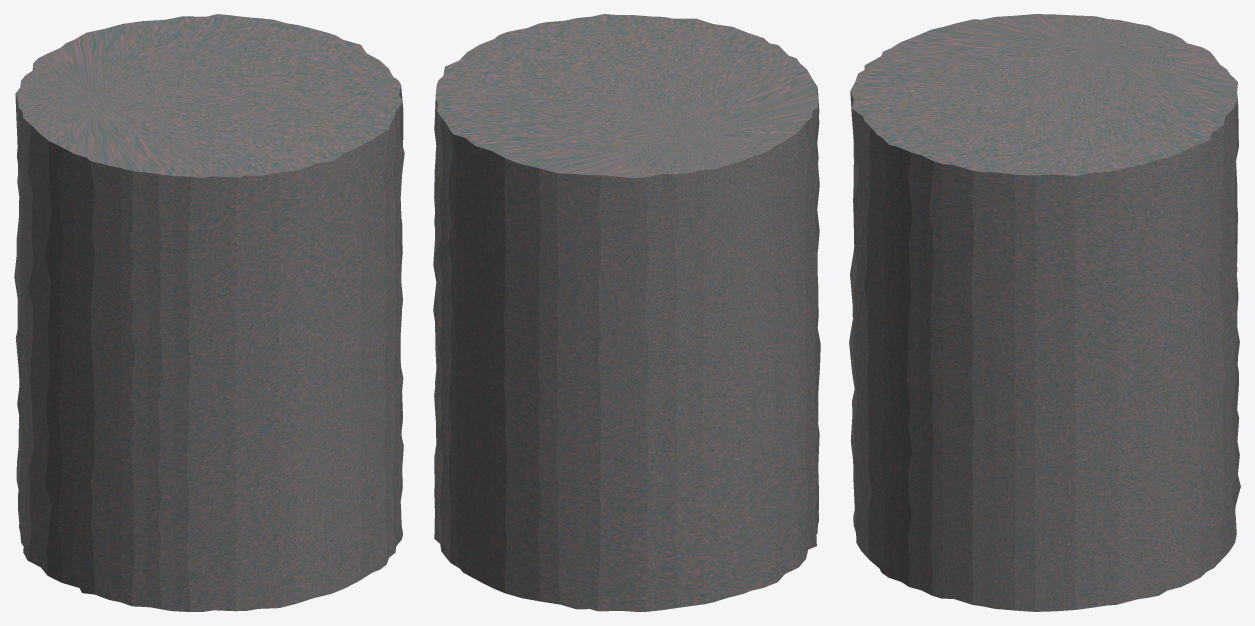
File: barrel_63.dae
3 views of the same model, side by side, from view 1: azimuth 30°, elevation 25°; view 2: azimuth 150°, elevation 25°; view 3: azimuth 270°, elevation 25° (orthographic).
Parts seen in each view (by area): view 1: Cylinder; view 2: Cylinder; view 3: Cylinder.
Boxes of the visible parts, <box> form: Cylinder: <box>14,14,404,611</box>; Cylinder: <box>433,14,820,611</box>; Cylinder: <box>849,14,1240,611</box>.
Bounding box in the file's own units: 0.8185 × 0.8174 × 1.
Materials: 1 (1 with a texture image).
